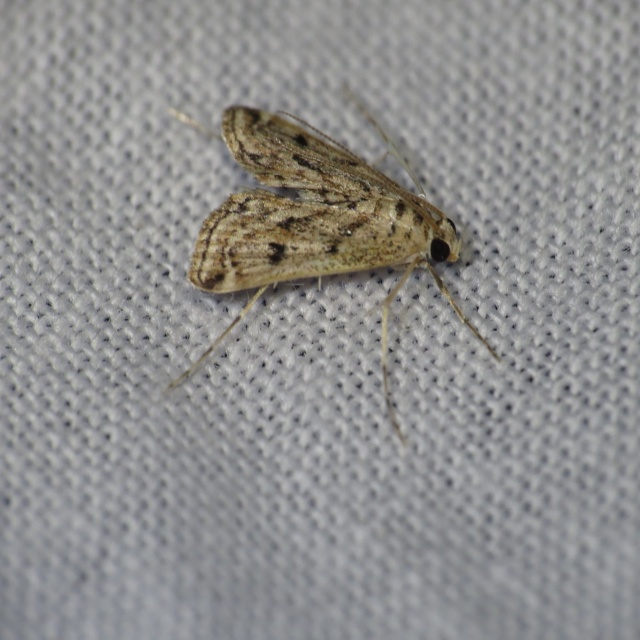Moths and butterflies: (163, 103, 501, 449)
